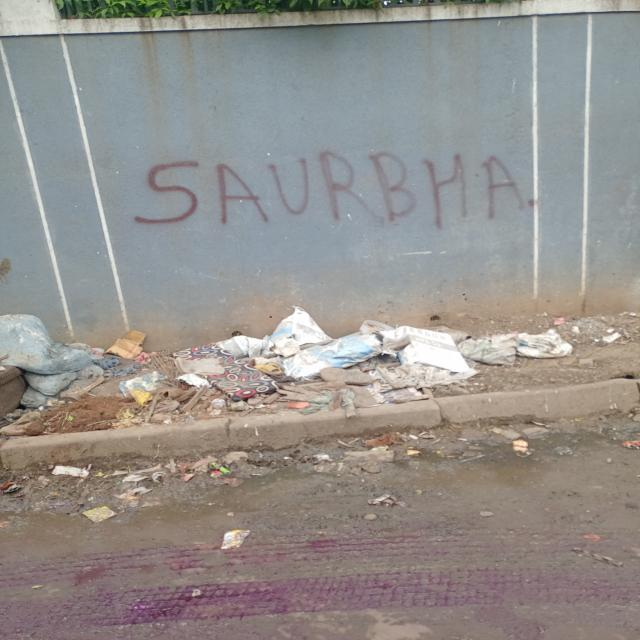garbage: (4, 315, 569, 431)
